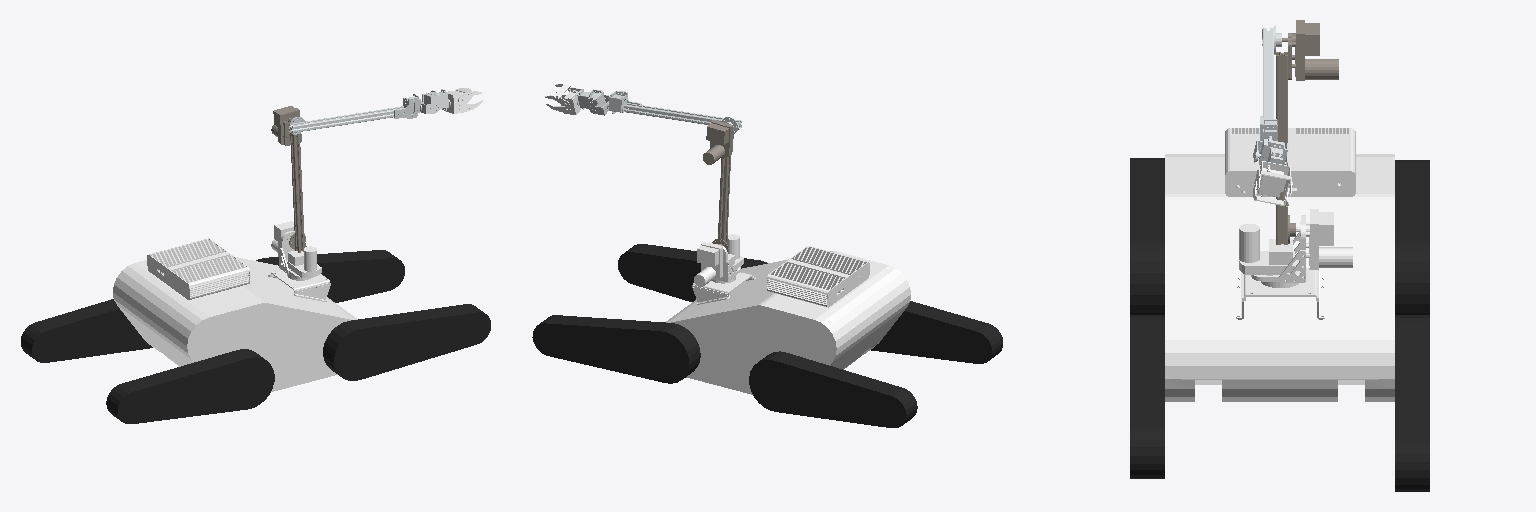
URDF robot description (rescue_up6):
<?xml version="1.0"?>
<robot
  name="rescue_up6">
  <link
    name="base_link">
    <inertial>
      <origin
        xyz="1.58206781009085E-15 1.30659372210573E-14 1.11022302462516E-15"
        rpy="0 0 0" />
      <mass
        value="0.015707963267949" />
      <inertia
        ixx="3.66519142918809E-06"
        ixy="2.19373468327891E-21"
        ixz="-3.30872245021211E-23"
        iyy="7.85398163397449E-07"
        iyz="-1.69737461695881E-21"
        izz="3.66519142918809E-06" />
    </inertial>
    <visual>
      <origin
        xyz="0 0 0"
        rpy="0 0 0" />
      <geometry>
        <mesh
          filename="package://rescue_up6/meshes/base_link.STL" />
      </geometry>
      <material
        name="">
        <color
          rgba="1 1 1 1" />
      </material>
    </visual>
    <collision>
      <origin
        xyz="0 0 0"
        rpy="0 0 0" />
      <geometry>
        <mesh
          filename="package://rescue_up6/meshes/base_link.STL" />
      </geometry>
    </collision>
  </link>
  <link
    name="front_back_base">
    <inertial>
      <origin
        xyz="1.58206781009085E-15 1.30659372210573E-14 1.11022302462516E-15"
        rpy="0 0 0" />
      <mass
        value="0.015707963267949" />
      <inertia
        ixx="3.66519142918809E-06"
        ixy="2.19373468327891E-21"
        ixz="-3.30872245021211E-23"
        iyy="7.85398163397449E-07"
        iyz="-1.69737461695881E-21"
        izz="3.66519142918809E-06" />
    </inertial>
    <visual>
      <origin
        xyz="0 0 0"
        rpy="0 0 0" />
      <geometry>
        <mesh
          filename="package://rescue_up6/meshes/front_back_base.STL" />
      </geometry>
      <material
        name="">
        <color
          rgba="1 1 1 1" />
      </material>
    </visual>
    <collision>
      <origin
        xyz="0 0 0"
        rpy="0 0 0" />
      <geometry>
        <mesh
          filename="package://rescue_up6/meshes/front_back_base.STL" />
      </geometry>
    </collision>
  </link>
  <joint
    name="joint_front_back"
    type="revolute">
    <origin
      xyz="0 0 0"
      rpy="0 0 0" />
    <parent
      link="base_link" />
    <child
      link="front_back_base" />
    <axis
      xyz="0 1 0" />
    <limit
      lower="-1.57"
      upper="1.57"
      effort="0"
      velocity="0" />
  </joint>
  <link
    name="frame_link">
    <inertial>
      <origin
        xyz="-0.06860343225332 0.000434552619986532 0.130082106850714"
        rpy="0 0 0" />
      <mass
        value="44.4030221431592" />
      <inertia
        ixx="0.800174387518486"
        ixy="0.00195064224057321"
        ixz="0.172420416036867"
        iyy="1.11901537937178"
        iyz="-0.00310337237631145"
        izz="1.44254279301018" />
    </inertial>
    <visual>
      <origin
        xyz="0 0 0"
        rpy="0 0 0" />
      <geometry>
        <mesh
          filename="package://rescue_up6/meshes/frame_link.STL" />
      </geometry>
      <material
        name="">
        <color
          rgba="1 1 1 1" />
      </material>
    </visual>
    <collision>
      <origin
        xyz="0 0 0"
        rpy="0 0 0" />
      <geometry>
        <mesh
          filename="package://rescue_up6/meshes/frame_link.STL" />
      </geometry>
    </collision>
  </link>
  <joint
    name="robot_left_right"
    type="revolute">
    <origin
      xyz="0 0 0"
      rpy="0 0 0" />
    <parent
      link="front_back_base" />
    <child
      link="frame_link" />
    <axis
      xyz="0.99984 0 0.018098" />
    <limit
      lower="-1.57"
      upper="1.57"
      effort="0"
      velocity="0" />
  </joint>
  <link
    name="arm1_link">
    <inertial>
      <origin
        xyz="1.47104550762833E-15 0.0153377592579065 0.0436602952416805"
        rpy="0 0 0" />
      <mass
        value="1.02007550321015" />
      <inertia
        ixx="0.00274616004817531"
        ixy="-1.2151746419547E-17"
        ixz="-2.44928047028053E-17"
        iyy="0.00144760330849001"
        iyz="-0.000532812925812417"
        izz="0.00200489649672803" />
    </inertial>
    <visual>
      <origin
        xyz="0 0 0"
        rpy="0 0 0" />
      <geometry>
        <mesh
          filename="package://rescue_up6/meshes/arm1_link.STL" />
      </geometry>
      <material
        name="">
        <color
          rgba="1 1 1 1" />
      </material>
    </visual>
    <collision>
      <origin
        xyz="0 0 0"
        rpy="0 0 0" />
      <geometry>
        <mesh
          filename="package://rescue_up6/meshes/arm1_link.STL" />
      </geometry>
    </collision>
  </link>
  <joint
    name="arm1_bearing_joint"
    type="revolute">
    <origin
      xyz="0.12871 0.001 0.20658"
      rpy="0 0 0" />
    <parent
      link="frame_link" />
    <child
      link="arm1_link" />
    <axis
      xyz="0 0 1" />
    <limit
      lower="-0.523599833"
      upper="0.34906584"
      effort="0"
      velocity="0" />
  </joint>
  <link
    name="arm2_link">
    <inertial>
      <origin
        xyz="0.22149713589339 0.00617086654729798 -2.67425470235061E-06"
        rpy="0 0 0" />
      <mass
        value="0.471157366596546" />
      <inertia
        ixx="0.000353861859126834"
        ixy="-0.000806879231308563"
        ixz="-2.79086391042312E-07"
        iyy="0.00879208774129162"
        iyz="-9.66809482184873E-09"
        izz="0.00900392924403629" />
    </inertial>
    <visual>
      <origin
        xyz="0 0 0"
        rpy="0 0 0" />
      <geometry>
        <mesh
          filename="package://rescue_up6/meshes/arm2_link.STL" />
      </geometry>
      <material
        name="">
        <color
          rgba="0.650980392156863 0.619607843137255 0.588235294117647 1" />
      </material>
    </visual>
    <collision>
      <origin
        xyz="0 0 0"
        rpy="0 0 0" />
      <geometry>
        <mesh
          filename="package://rescue_up6/meshes/arm2_link.STL" />
      </geometry>
    </collision>
  </link>
  <!-- 修改过-->
  <joint
    name="arm2_arm1_joint" 
    type="revolute">
    <origin
      xyz="0 0.021 0.102"
      rpy="0 3.14 0" />
    <parent
      link="arm1_link" />
    <child
      link="arm2_link" />
    <axis
      xyz="0 1 0" />
    <limit
      lower="0.5233333"
      upper="2.52999999"
      effort="0"
      velocity="0" />
  </joint>
  <link
    name="arm3_link">
    <inertial>
      <origin
        xyz="0.188961004840976 0.0151904976909891 -0.00318054808513979"
        rpy="0 0 0" />
      <mass
        value="0.340508547249227" />
      <inertia
        ixx="7.31465560819647E-05"
        ixy="-0.000208168666056496"
        ixz="0.000171588634055097"
        iyy="0.00740941886789904"
        iyz="2.61463501057219E-06"
        izz="0.00739633469757365" />
    </inertial>
    <visual>
      <origin
        xyz="0 0 0"
        rpy="0 0 0" />
      <geometry>
        <mesh
          filename="package://rescue_up6/meshes/arm3_link.STL" />
      </geometry>
      <material
        name="">
        <color
          rgba="0.898039215686275 0.917647058823529 0.929411764705882 1" />
      </material>
    </visual>
    <collision>
      <origin
        xyz="0 0 0"
        rpy="0 0 0" />
      <geometry>
        <mesh
          filename="package://rescue_up6/meshes/arm3_link.STL" />
      </geometry>
    </collision>
  </link>
  <joint
    name="arm3_arm2_joint"
    type="revolute">
    <origin
      xyz="0.351 -0.024 0"
      rpy="3.14 3.14 0" />
    <parent
      link="arm2_link" />
    <child
      link="arm3_link" />
    <axis
      xyz="0 1 0" />
    <limit
      lower="0.3482"
      upper="2.53072737"
      effort="0"
      velocity="0" />
  </joint>
  <link
    name="pt1_link">
    <inertial>
      <origin
        xyz="0.014261023194303 2.24263119186219E-09 1.16601446276121E-08"
        rpy="0 0 0" />
      <mass
        value="0.0168856923737979" />
      <inertia
        ixx="1.0015197136409E-05"
        ixy="1.55307295909894E-20"
        ixz="4.21200367912002E-20"
        iyy="1.17606565448205E-05"
        iyz="-1.73314948473276E-06"
        izz="4.32214178529503E-06" />
    </inertial>
    <visual>
      <origin
        xyz="0 0 0"
        rpy="0 0 0" />
      <geometry>
        <mesh
          filename="package://rescue_up6/meshes/pt1_link.STL" />
      </geometry>
      <material
        name="">
        <color
          rgba="0.898039215686275 0.917647058823529 0.929411764705882 1" />
      </material>
    </visual>
    <collision>
      <origin
        xyz="0 0 0"
        rpy="0 0 0" />
      <geometry>
        <mesh
          filename="package://rescue_up6/meshes/pt1_link.STL" />
      </geometry>
    </collision>
  </link>
  <joint
    name="pt1_arm_joint"
    type="revolute">
    <origin
      xyz="0.3743 0.014 0.00059999"
      rpy="-1.57 0 0" />
    <parent
      link="arm3_link" />
    <child
      link="pt1_link" />
    <axis
      xyz="1 0 0" />
    <limit
      lower="-1.57"
      upper="1.57"
      effort="0"
      velocity="0" />
  </joint>
  <link
    name="pt2_link">
    <inertial>
      <origin
        xyz="0.0158727704262693 -0.00401405577578731 0.0277894082408259"
        rpy="0 0 0" />
      <mass
        value="0.176496925110268" />
      <inertia
        ixx="4.4677383857657E-05"
        ixy="-2.1435562856908E-06"
        ixz="-5.42562443089032E-06"
        iyy="7.82634600626062E-05"
        iyz="2.50111476082921E-06"
        izz="8.65144704323585E-05" />
    </inertial>
    <visual>
      <origin
        xyz="0 0 0"
        rpy="0 0 0" />
      <geometry>
        <mesh
          filename="package://rescue_up6/meshes/pt2_link.STL" />
      </geometry>
      <material
        name="">
        <color
          rgba="0.898039215686275 0.917647058823529 0.929411764705882 1" />
      </material>
    </visual>
    <collision>
      <origin
        xyz="0 0 0"
        rpy="0 0 0" />
      <geometry>
        <mesh
          filename="package://rescue_up6/meshes/pt2_link.STL" />
      </geometry>
    </collision>
  </link>
  <joint
    name="pt2_pt1_joint"
    type="revolute">
    <origin
      xyz="0.0335 0.0052997 0.02392"
      rpy="3.14 0 -7.8063E-18" />
    <parent
      link="pt1_link" />
    <child
      link="pt2_link" />
    <axis
      xyz="0 0.21631 0.97632" />
    <limit
      lower="-0.69"
      upper="1.39"
      effort="0"
      velocity="0" />
  </joint>
  <link
    name="paw_rotation_link">
    <inertial>
      <origin
        xyz="0.0260880206707087 -0.000706204649803935 -0.00319232689688187"
        rpy="0 0 0" />
      <mass
        value="0.106174750561717" />
      <inertia
        ixx="4.29253431142191E-05"
        ixy="1.03870578224304E-06"
        ixz="-3.40592243415542E-07"
        iyy="3.93575447699288E-05"
        iyz="-1.4891051340269E-06"
        izz="3.50869264619447E-05" />
    </inertial>
    <visual>
      <origin
        xyz="0 0 0"
        rpy="0 0 0" />
      <geometry>
        <mesh
          filename="package://rescue_up6/meshes/paw_rotation_link.STL" />
      </geometry>
      <material
        name="">
        <color
          rgba="1 1 1 1" />
      </material>
    </visual>
    <collision>
      <origin
        xyz="0 0 0"
        rpy="0 0 0" />
      <geometry>
        <mesh
          filename="package://rescue_up6/meshes/paw_rotation_link.STL" />
      </geometry>
    </collision>
  </link>
  <joint
    name="rotate_joint"
    type="revolute">
    <origin
      xyz="0.0563 0.0063658 0.027576"
      rpy="0 0 0" />
    <parent
      link="pt2_link" />
    <child
      link="paw_rotation_link" />
    <axis
      xyz="1 0 0" />
    <limit
      lower="-1.57"
      upper="1.57"
      effort="0"
      velocity="0" />
  </joint>
  <!-- 虚构一个爪子的位置 -->
    <joint name="paw" type="revolute">
        <origin xyz="0 0 0" rpy=" 0 0 0" />
		<parent link="paw_rotation_link" />
		<child link="paw_Link" />
		<axis xyz="1 0 0" />
		<limit lower="0" upper="0.785" effort="0" velocity="0" />
    </joint>
    <link name="paw_Link">
        <visual>  
      <geometry>  
        <box size="0 0 0"/>  
      </geometry>  
      <material name="white"/>  
    </visual>  
    </link>
  <!--副履带和轮子 -->
  <link
    name="left_up_fin_Link">
    <inertial>
      <origin
        xyz="0.148046517413099 -0.0299999999999994 -0.0133159479277039"
        rpy="0 0 0" />
      <mass
        value="3.38900672189903" />
      <inertia
        ixx="0.00579687237740236"
        ixy="-2.41190937664768E-16"
        ixz="0.00476178590646509"
        iyy="0.0620735121537021"
        iyz="1.00613961606655E-16"
        izz="0.0583100438094392" />
    </inertial>
    <visual>
      <origin
        xyz="0 0 0"
        rpy="0 0 0" />
      <geometry>
        <mesh
          filename="package://rescue_up6/meshes/left_up_fin_Link.STL" />
      </geometry>
      <material
        name="">
        <color
          rgba="0.203921568627451 0.203921568627451 0.203921568627451 1" />
      </material>
    </visual>
    <collision>
      <origin
        xyz="0 0 0"
        rpy="0 0 0" />
      <geometry>
        <mesh
          filename="package://rescue_up6/meshes/left_up_fin_Link.STL" />
      </geometry>
    </collision>
  </link>
  <joint
    name="left_up_fin_base_joint"
    type="revolute">
    <origin
      xyz="0.15795 0.2575 0.077871"
      rpy="0 0 0" />
    <parent
      link="frame_link" />
    <child
      link="left_up_fin_Link" />
    <axis
      xyz="0 1 0" />
    <limit
      lower="-1.57"
      upper="1.57"
      effort="0"
      velocity="0" />
  </joint>
  <link
    name="right_up_fin_Link">
    <inertial>
      <origin
        xyz="0.148614067010005 0.0300000000000004 -0.00299079823890891"
        rpy="0 0 0" />
      <mass
        value="3.38900672189904" />
      <inertia
        ixx="0.00539018260665576"
        ixy="-1.40241551011E-16"
        ixz="0.00107361017064266"
        iyy="0.0620735121537021"
        iyz="8.00141203294302E-17"
        izz="0.0587167335801858" />
    </inertial>
    <visual>
      <origin
        xyz="0 0 0"
        rpy="0 0 0" />
      <geometry>
        <mesh
          filename="package://rescue_up6/meshes/right_up_fin_Link.STL" />
      </geometry>
      <material
        name="">
        <color
          rgba="0.203921568627451 0.203921568627451 0.203921568627451 1" />
      </material>
    </visual>
    <collision>
      <origin
        xyz="0 0 0"
        rpy="0 0 0" />
      <geometry>
        <mesh
          filename="package://rescue_up6/meshes/right_up_fin_Link.STL" />
      </geometry>
    </collision>
  </link>
  <joint
    name="right_up_fin_base_joint"
    type="revolute">
    <origin
      xyz="0.15795 -0.2575 0.077871"
      rpy="0 0 0" />
    <parent
      link="frame_link" />
    <child
      link="right_up_fin_Link" />
    <axis
      xyz="0 1 0" />
    <limit
      lower="-1.57"
      upper="1.57"
      effort="0"
      velocity="0" />
  </joint>
  <link
    name="right_down_fin_Link">
    <inertial>
      <origin
        xyz="-0.140466091982116 0.0299999999999997 0.0486247137845764"
        rpy="0 0 0" />
      <mass
        value="3.38900672189903" />
      <inertia
        ixx="0.0110795968496087"
        ixy="-1.09921159631085E-16"
        ixz="0.0164978799549199"
        iyy="0.0620735121537021"
        iyz="3.36102673470506E-17"
        izz="0.0530273193372328" />
    </inertial>
    <visual>
      <origin
        xyz="0 0 0"
        rpy="0 0 0" />
      <geometry>
        <mesh
          filename="package://rescue_up6/meshes/right_down_fin_Link .STL" />
      </geometry>
      <material
        name="">
        <color
          rgba="0.203921568627451 0.203921568627451 0.203921568627451 1" />
      </material>
    </visual>
    <collision>
      <origin
        xyz="0 0 0"
        rpy="0 0 0" />
      <geometry>
        <mesh
          filename="package://rescue_up6/meshes/right_down_fin_Link .STL" />
      </geometry>
    </collision>
  </link>
  <joint
    name="right_down_fin_base_joint"
    type="revolute">
    <origin
      xyz="-0.17399 -0.2575 0.071863"
      rpy="-0 -0.3 0" />
    <parent
      link="frame_link" />
    <child
      link="right_down_fin_Link" />
    <axis
      xyz="0 1 0" />
    <limit
      lower="-1.57"
      upper="1.57"
      effort="0"
      velocity="0" />
  </joint>
  <link
    name="left_down_fin_Link">
    <inertial>
      <origin
        xyz="-0.148609776402864 -0.0299999999999993 0.00319689612767771"
        rpy="0 0 0" />
      <mass
        value="3.38900672189904" />
      <inertia
        ixx="0.00539326297022564"
        ixy="2.80029092362272E-16"
        ixz="0.00114756022708773"
        iyy="0.0620735121537022"
        iyz="-8.89045781438114E-18"
        izz="0.0587136532166159" />
    </inertial>
    <visual>
      <origin
        xyz="0 0 0"
        rpy="0 0 0" />
      <geometry>
        <mesh
          filename="package://rescue_up6/meshes/left_down_fin_Link.STL" />
      </geometry>
      <material
        name="">
        <color
          rgba="0.203921568627451 0.203921568627451 0.203921568627451 1" />
      </material>
    </visual>
    <collision>
      <origin
        xyz="0 0 0"
        rpy="0 0 0" />
      <geometry>
        <mesh
          filename="package://rescue_up6/meshes/left_down_fin_Link.STL" />
      </geometry>
    </collision>
  </link>
  <joint
    name="left_down_fin_base_joint"
    type="revolute">
    <origin
      xyz="-0.17399 0.2575 0.071863"
      rpy="-6.9389E-18 0 7.8063E-18" />
    <parent
      link="frame_link" />
    <child
      link="left_down_fin_Link" />
    <axis
      xyz="0 1 0" />
    <limit
      lower="-1.57"
      upper="1.57"
      effort="0"
      velocity="0" />
  </joint>
  <!--轮子部分 -->

  <joint name="left_up_wheel_base_joint" type="continuous">
        <origin xyz="0 0 0" rpy=" 0 0 0" />
		<parent link="front_back_base" />
		<child link="left_up_wheel_Link" />
		<axis xyz="1 0 0" />
		<limit lower="0" upper="0.785" effort="0" velocity="0" />
    </joint>
    <link name="left_up_wheel_Link">
        <visual>  
      <geometry>  
        <box size="0 0 0"/>  
      </geometry>  
      <material name="white"/>  
    </visual>  
    </link>
    <joint name="left_down_wheel_base_joint" type="continuous">
        <origin xyz="0 0 0" rpy=" 0 0 0" />
		<parent link="front_back_base" />
		<child link="left_down_wheel_Link" />
		<axis xyz="1 0 0" />
		<limit lower="0" upper="0.785" effort="0" velocity="0" />
    </joint>
    <link name="left_down_wheel_Link">
        <visual>  
      <geometry>  
        <box size="0 0 0"/>  
      </geometry>  
      <material name="white"/>  
    </visual>  
    </link>
    <joint name="right_up_wheel_base_joint" type="continuous">
        <origin xyz="0 0 0" rpy=" 0 0 0" />
		<parent link="front_back_base" />
		<child link="right_up_wheel_Link" />
		<axis xyz="1 0 0" />
		<limit lower="0" upper="0.785" effort="0" velocity="0" />
    </joint>
    <link name="right_up_wheel_Link">
        <visual>  
      <geometry>  
        <box size="0 0 0"/>  
      </geometry>  
      <material name="white"/>  
    </visual>  
    </link>
    <joint name="right_down_wheel_base_joint" type="continuous">
        <origin xyz="0 0 0" rpy=" 0 0 0" />
		<parent link="front_back_base" />
		<child link="right_down_wheel_Link" />
		<axis xyz="1 0 0" />
		<limit lower="0" upper="0.785" effort="0" velocity="0" />
    </joint>
    <link name="right_down_wheel_Link">
        <visual>  
      <geometry>  
        <box size="0 0 0"/>  
      </geometry>  
      <material name="white"/>  
    </visual>  
    </link> 
	
</robot>

--- Render facts (derived) ---
3 views of the same robot in one strip: view 1: azimuth 30°, elevation 25°; view 2: azimuth 150°, elevation 25°; view 3: azimuth 270°, elevation 25° (orthographic).
Model rescue_up6 with 18 links and 17 joints (13 revolute, 4 continuous), rooted at base_link, posed joints at zero except 2 at the middle of their limits (arm2_arm1_joint = 1.53, arm3_arm2_joint = 1.44).
Links seen in each view (by area): view 1: frame_link, right_up_fin_Link, right_down_fin_Link, left_down_fin_Link, left_up_fin_Link, arm2_link, arm1_link, arm3_link, paw_rotation_link; view 2: frame_link, left_down_fin_Link, left_up_fin_Link, right_down_fin_Link, right_up_fin_Link, arm2_link, arm1_link, arm3_link, paw_rotation_link; view 3: frame_link, left_up_fin_Link, right_up_fin_Link, right_down_fin_Link, left_down_fin_Link, arm1_link, arm2_link, arm3_link, paw_rotation_link, pt2_link.
Boxes of the visible links, left/top/right/bottom form: frame_link: left=113, top=238, right=357, bottom=391; right_up_fin_Link: left=323, top=304, right=490, bottom=380; right_down_fin_Link: left=106, top=349, right=274, bottom=423; left_down_fin_Link: left=21, top=299, right=152, bottom=362; left_up_fin_Link: left=256, top=250, right=404, bottom=302; arm2_link: left=271, top=106, right=305, bottom=252; arm1_link: left=271, top=221, right=321, bottom=280; arm3_link: left=289, top=94, right=421, bottom=134; paw_rotation_link: left=446, top=88, right=482, bottom=113; frame_link: left=666, top=246, right=910, bottom=394; left_down_fin_Link: left=749, top=351, right=917, bottom=427; left_up_fin_Link: left=532, top=315, right=700, bottom=383; right_down_fin_Link: left=871, top=301, right=1002, bottom=363; right_up_fin_Link: left=618, top=244, right=767, bottom=301; arm2_link: left=703, top=120, right=733, bottom=251; arm1_link: left=694, top=234, right=743, bottom=286; arm3_link: left=607, top=91, right=741, bottom=133; paw_rotation_link: left=545, top=84, right=581, bottom=114; frame_link: left=1165, top=128, right=1394, bottom=401; left_up_fin_Link: left=1395, top=315, right=1429, bottom=491; right_up_fin_Link: left=1130, top=315, right=1164, bottom=478; right_down_fin_Link: left=1130, top=158, right=1164, bottom=314; left_down_fin_Link: left=1395, top=160, right=1429, bottom=314; arm1_link: left=1239, top=209, right=1352, bottom=287; arm2_link: left=1276, top=20, right=1338, bottom=244; arm3_link: left=1260, top=26, right=1281, bottom=147; paw_rotation_link: left=1253, top=161, right=1292, bottom=206; pt2_link: left=1256, top=136, right=1287, bottom=164.
Size in the robot's own frame: 1.25 by 0.515 by 0.6945 metres.
Meshes: 13 distinct files referenced, 12 mesh visuals loaded (12 binary STL); not drawn: 1 (reference not matched to a file when rendering).